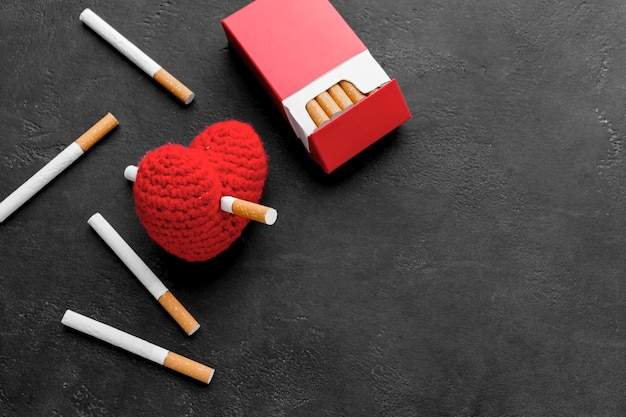cigarette: (219, 0, 414, 174), (86, 212, 202, 336), (0, 112, 120, 222), (60, 307, 216, 385), (80, 9, 193, 105), (125, 164, 279, 227), (305, 98, 332, 130), (315, 90, 343, 120), (328, 84, 353, 113), (340, 80, 366, 104)
